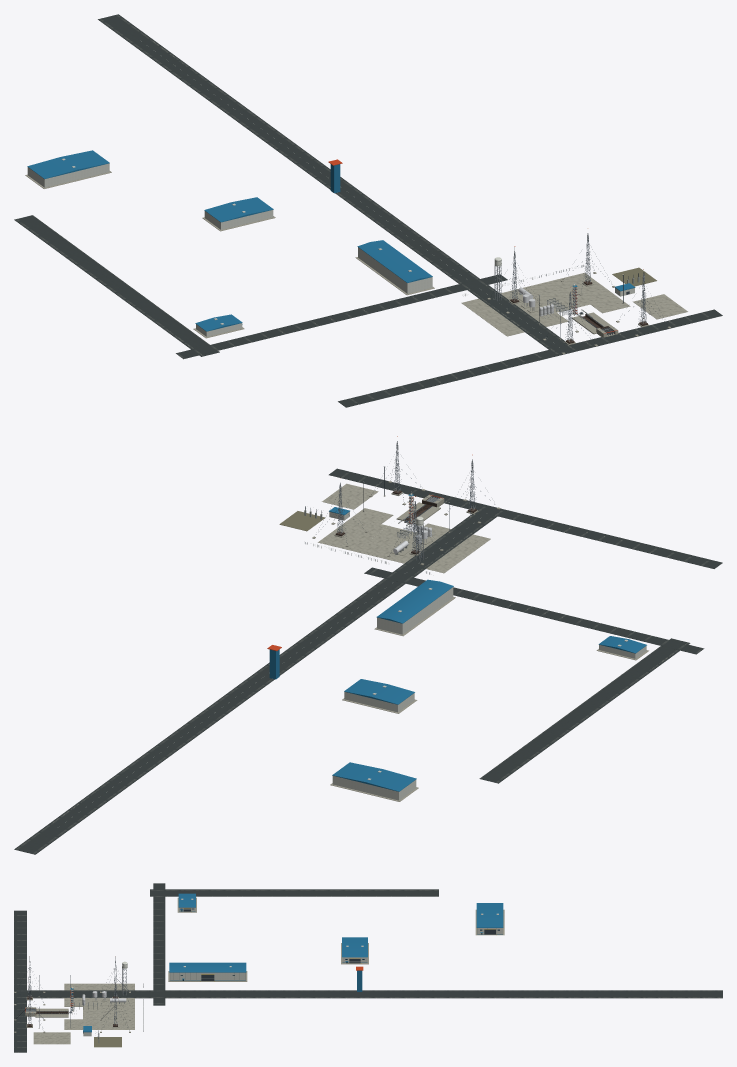
Rendered from pad.glb.
3 views of the same model, one above another, from view 1: azimuth 30°, elevation 25°; view 2: azimuth 150°, elevation 25°; view 3: azimuth 270°, elevation 25° (orthographic). The views are drawn at different scales.
Visible parts, largest first — view 1: LOD0-Roads, LOD0-Mount, LOD0-Cryo, LOD0-Trench; view 2: LOD0-Roads, LOD0-Mount, LOD0-Cryo; view 3: LOD0-Roads, LOD0-Mount, LOD0-Cryo, LOD0-Trench.
Part boxes in pixels (left/top/right/bottom): LOD0-Roads: left=14, top=14, right=722, bottom=407; LOD0-Mount: left=25, top=150, right=670, bottom=354; LOD0-Cryo: left=465, top=265, right=645, bottom=339; LOD0-Trench: left=572, top=312, right=618, bottom=337; LOD0-Roads: left=14, top=468, right=722, bottom=854; LOD0-Mount: left=267, top=436, right=648, bottom=801; LOD0-Cryo: left=304, top=466, right=471, bottom=574; LOD0-Roads: left=14, top=883, right=722, bottom=1052; LOD0-Mount: left=14, top=893, right=504, bottom=1032; LOD0-Cryo: left=38, top=975, right=143, bottom=1043; LOD0-Trench: left=25, top=1007, right=68, bottom=1017.
Size of what is drawn, in the model's own units: 429 by 53.26 by 761.
Materials: 19 (4 with a texture image).
